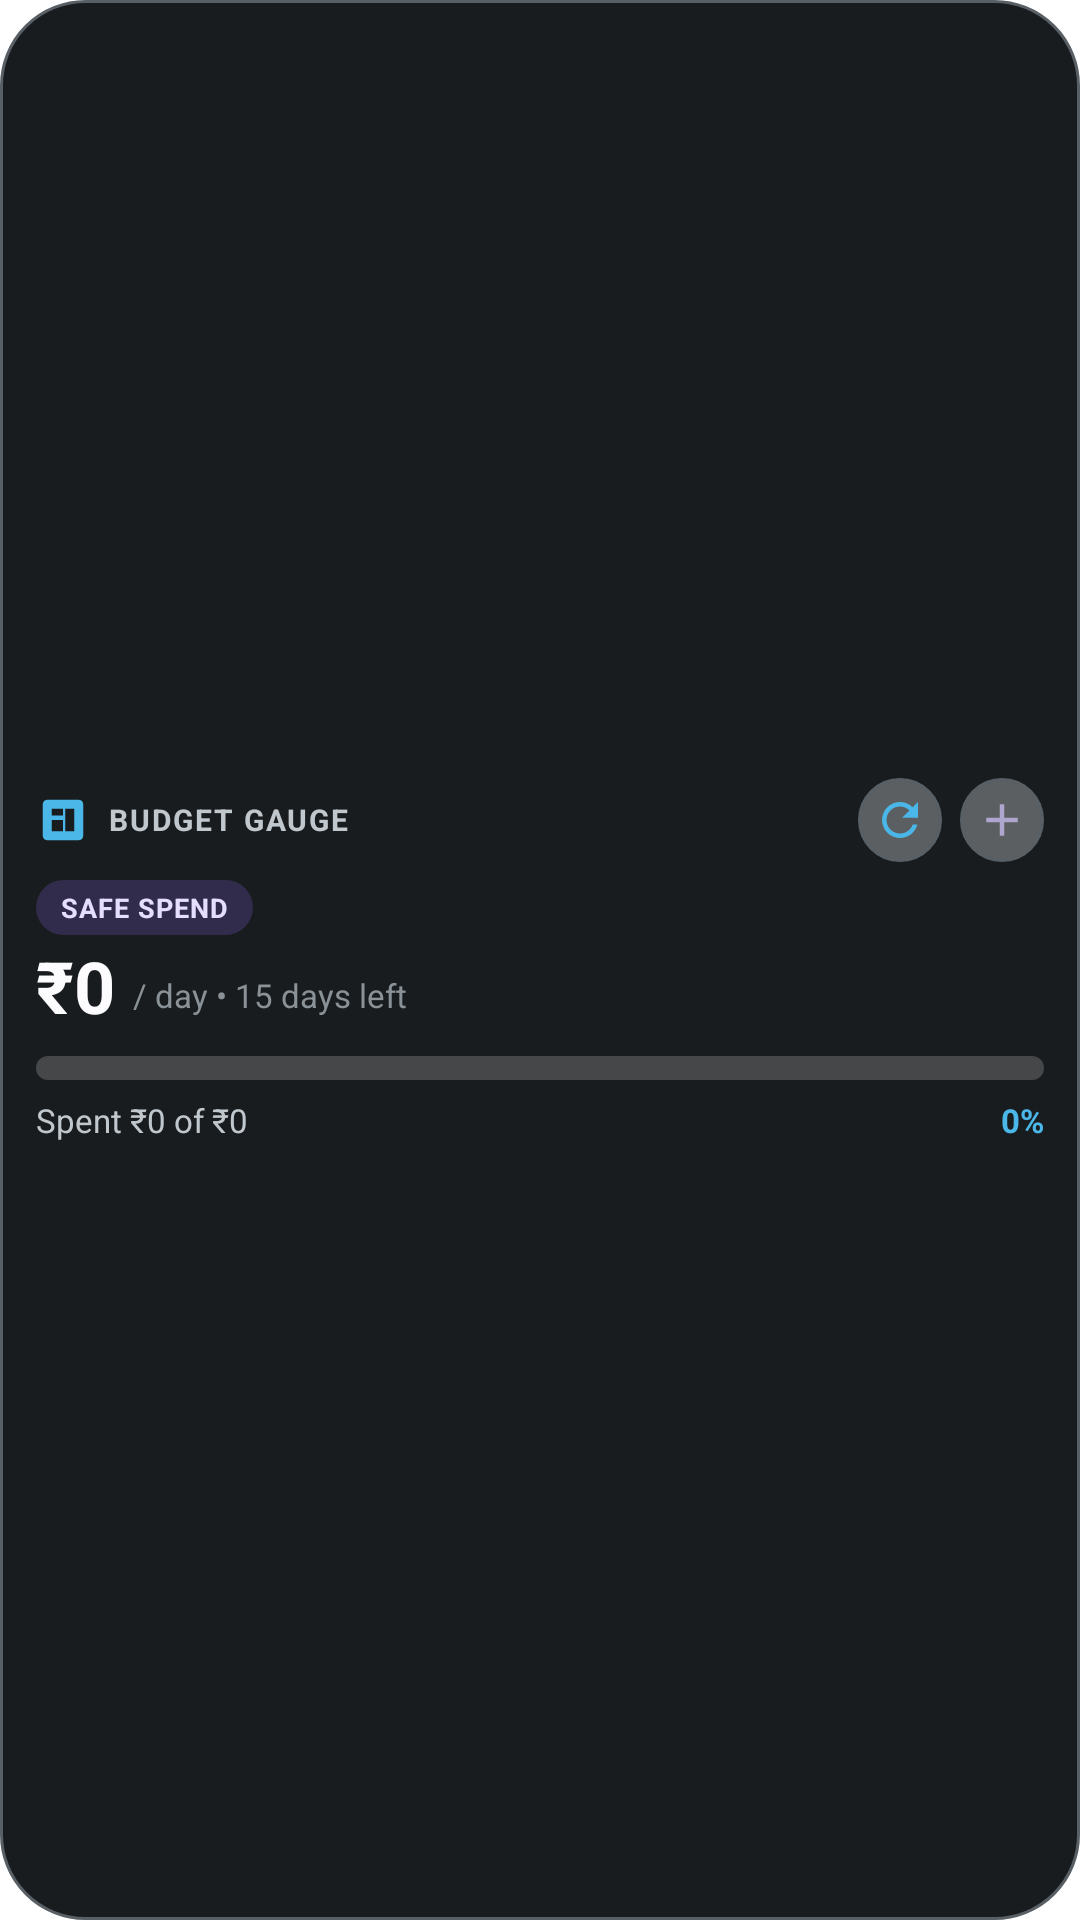

Locate icon controls on the screen. Image size 1080x1920, boxes as (x1, y1, x2, y2).
Add Transaction: (960, 778, 1044, 862)
Refresh Budget: (858, 778, 942, 862)
widget chart: (42, 799, 84, 841)
